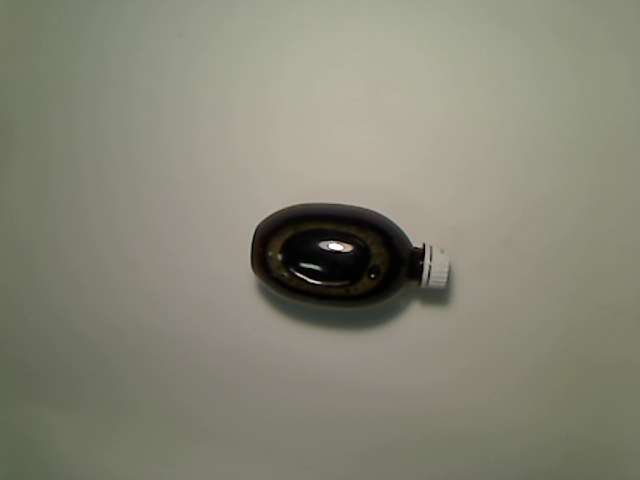plast_bottle: (248, 200, 452, 313)
